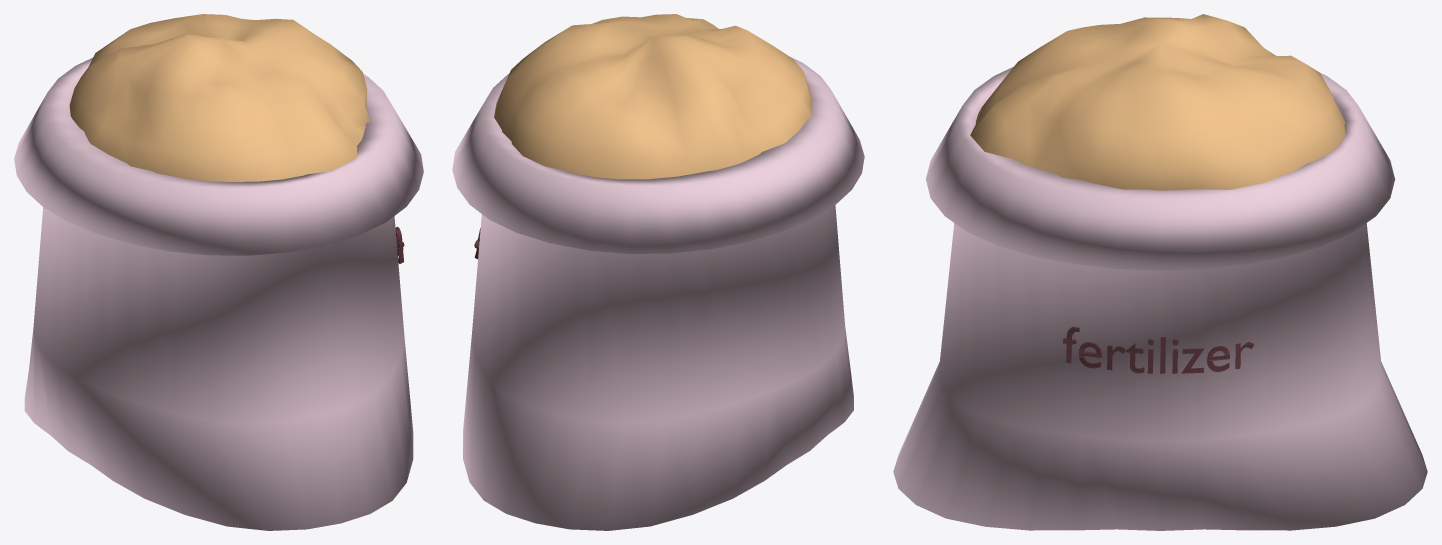
File: fertilizer.fbx
3 renders of one model, left to right at view 1: azimuth 30°, elevation 25°; view 2: azimuth 150°, elevation 25°; view 3: azimuth 270°, elevation 25°, orthographic. The views are drawn at different scales.
Visible parts, largest first — view 1: Cylinder, Cylinder.001; view 2: Cylinder, Cylinder.001; view 3: Cylinder, Cylinder.001, Text.
Boxes of the visible parts, x1=… form: Cylinder: x1=14, y1=57, x2=423, y2=530; Cylinder.001: x1=69, y1=14, x2=369, y2=181; Cylinder: x1=452, y1=57, x2=864, y2=530; Cylinder.001: x1=494, y1=14, x2=812, y2=179; Cylinder: x1=893, y1=66, x2=1427, y2=530; Cylinder.001: x1=970, y1=14, x2=1345, y2=190; Text: x1=1063, y1=326, x2=1254, y2=373.
Bounding box in the file's own units: 179 × 162 × 149.
